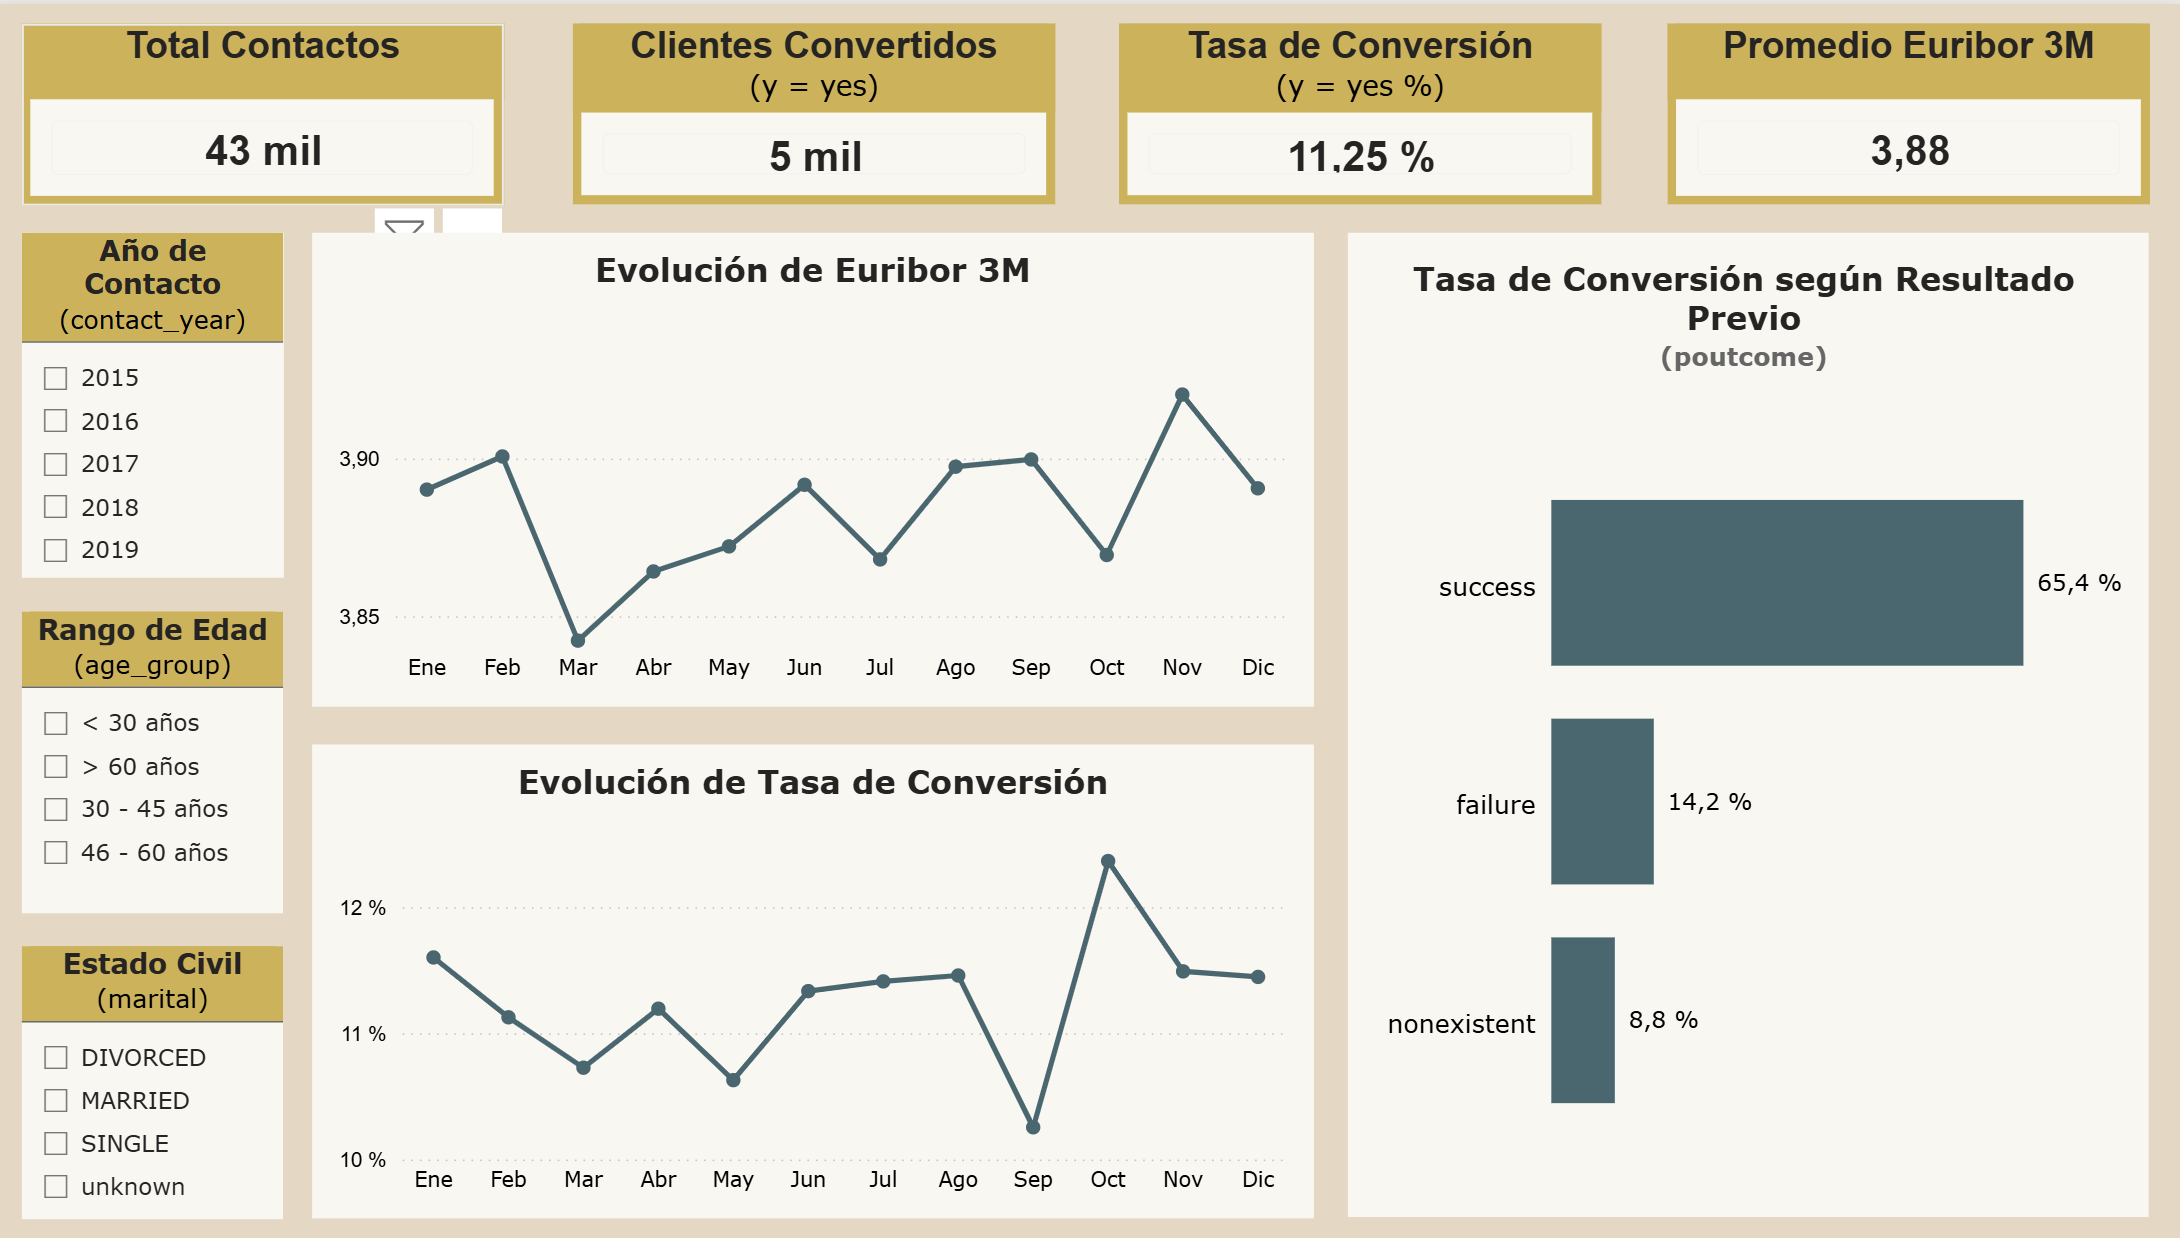

The page's visual inventory and layout, read from the dashboard file:
{"tool":"powerbi","page":{"name":"Monitoreo Estratégico","canvas":[1280,720],"ordinal":0},"visuals":[{"type":"cardVisual","title":"Total Contactos","fields":{"Data":["_Medidas.Total Contactos"]},"box":[21.4,11.4,280,105.7],"z":0},{"type":"cardVisual","title":"Clientes Convertidos","fields":{"Data":["_Medidas.Clientes Convertidos"]},"box":[341.4,11.4,280,105],"z":1000},{"type":"cardVisual","title":"Tasa de Conversión","fields":{"Data":["_Medidas.Tasa Conversion %"]},"box":[658.6,11.9,280,105],"z":2000},{"type":"cardVisual","title":"Promedio Euribor 3M","fields":{"Data":["_Medidas.Euribor 3M Promedio"]},"box":[977.1,11.4,280,105],"z":3000},{"type":"lineChart","title":"Evolución de Euribor 3M","fields":{"Y":["_Medidas.Euribor 3M Promedio"],"Category":["bank_marketing_cleaned.Nombre_Mes"]},"box":[190.2,133.5,581.7,275],"z":4000},{"type":"slicer","title":"Año de Contacto","fields":{"Values":["bank_marketing_cleaned.contact_year"]},"box":[21.9,133.5,151.7,200],"z":5000},{"type":"slicer","title":"Estado Civil","fields":{"Values":["bank_marketing_cleaned.marital"]},"box":[21.9,546.9,151.7,158.3],"z":6000},{"type":"slicer","title":"Rango de Edad","fields":{"Values":["bank_marketing_cleaned.age_group"]},"box":[21.9,353.5,151.7,175],"z":7000},{"type":"lineChart","title":"Evolución de Tasa de Conversión","fields":{"Category":["bank_marketing_cleaned.Nombre_Mes"],"Y":["_Medidas.Tasa Conversion %"]},"box":[190.2,430.2,581.7,275],"z":9000},{"type":"clusteredBarChart","title":"Tasa de Conversión según Resultado Previo","fields":{"Category":["bank_marketing_cleaned.poutcome"],"Y":["_Medidas.Tasa Conversion %"]},"box":[791.9,133.5,465,571.7],"z":10000}]}

Visuals, with their boxes in screenshot pixels (x1, y1, x2, y2), scaled from the page's 1280x720 canvas onto the 2180x1238 screenshot:
"Total Contactos" cardVisual: {"left": 36, "top": 20, "right": 513, "bottom": 201}
"Clientes Convertidos" cardVisual: {"left": 581, "top": 20, "right": 1058, "bottom": 200}
"Tasa de Conversión" cardVisual: {"left": 1122, "top": 20, "right": 1599, "bottom": 201}
"Promedio Euribor 3M" cardVisual: {"left": 1664, "top": 20, "right": 2141, "bottom": 200}
"Evolución de Euribor 3M" lineChart: {"left": 324, "top": 230, "right": 1315, "bottom": 702}
"Año de Contacto" slicer: {"left": 37, "top": 230, "right": 296, "bottom": 573}
"Estado Civil" slicer: {"left": 37, "top": 940, "right": 296, "bottom": 1213}
"Rango de Edad" slicer: {"left": 37, "top": 608, "right": 296, "bottom": 909}
"Evolución de Tasa de Conversión" lineChart: {"left": 324, "top": 740, "right": 1315, "bottom": 1213}
"Tasa de Conversión según Resultado Previo" clusteredBarChart: {"left": 1349, "top": 230, "right": 2141, "bottom": 1213}
